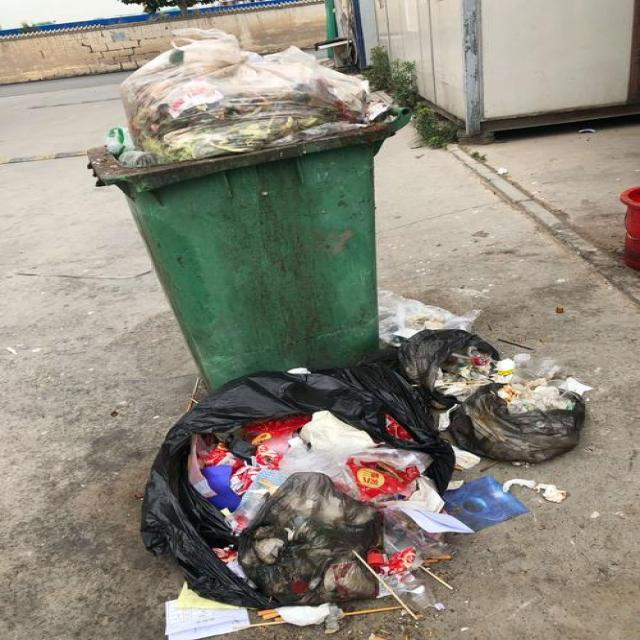garbage: (137, 290, 595, 639)
overflow: (84, 26, 408, 406)
